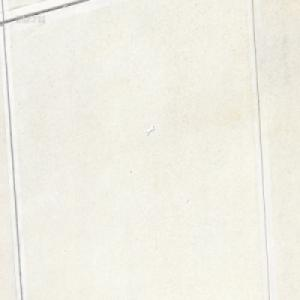Wrench: (145, 125, 154, 135)
